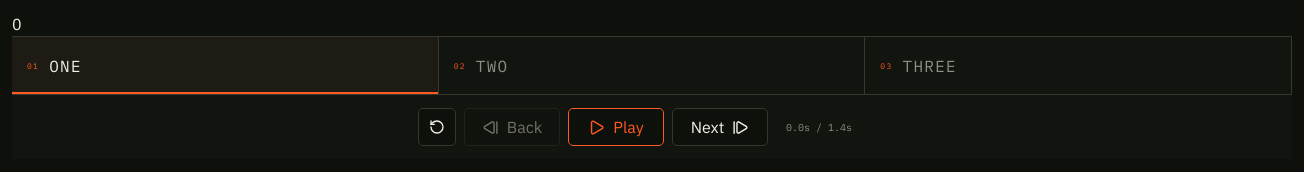
ScenePlayer › pauses and seeks to a selected phase snapshot
Click the tab "02 TWO" at [492, 66], box x1=439 y1=37 x2=865 y2=95
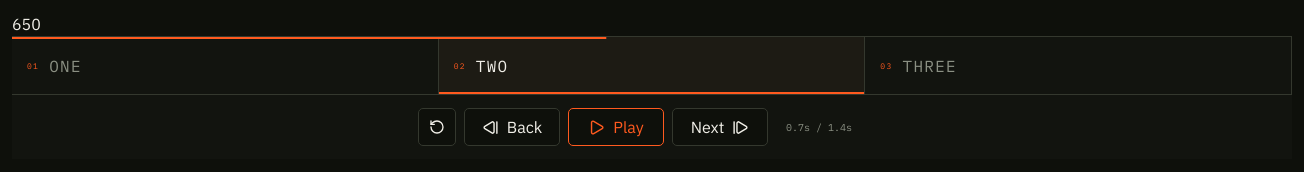
Now the text with test id "frame" reads "650", box x1=12 y1=14 x2=41 y2=34
